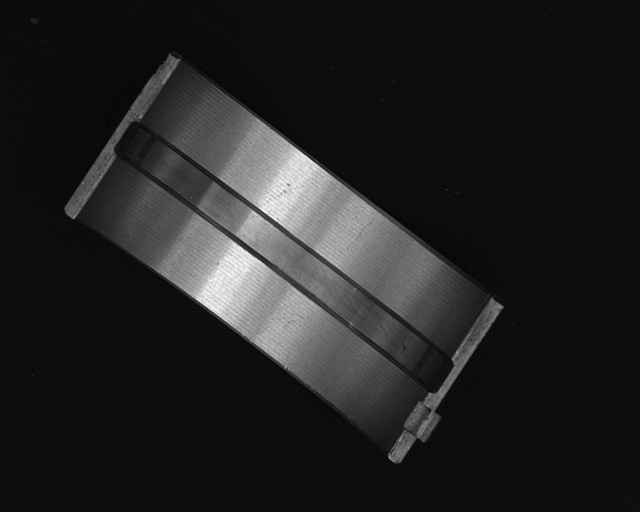gap: (115, 120, 452, 391)
nick: (346, 218, 372, 252)
